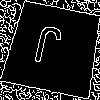J: (28, 24, 65, 75)
